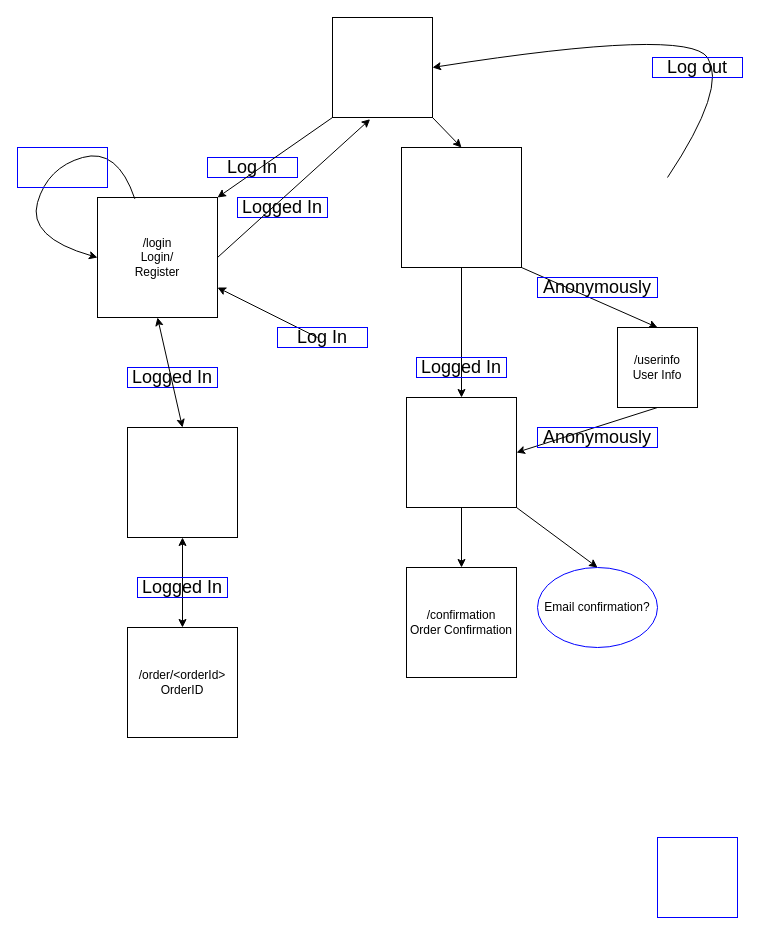
Some shapes in this 760 by 935 pixel diagram are drawn without their labels. Here are the shapes that lost their labels. From the top down, the box of each, then its label:
(332, 16, 432, 118): /productlist Product list/ Store
(16, 146, 108, 188): Log In Failed
(400, 146, 522, 268): /purchase Purchase/ Shopping cart
(406, 396, 516, 508): /stripe Stripe
(126, 426, 238, 538): /order Order history
(656, 836, 738, 918): Admin Page?
